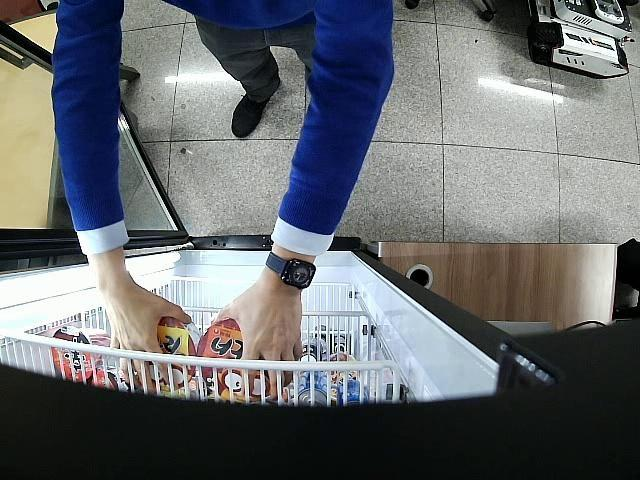05_nuguri_L: (198, 318, 270, 402), (138, 317, 202, 391)
